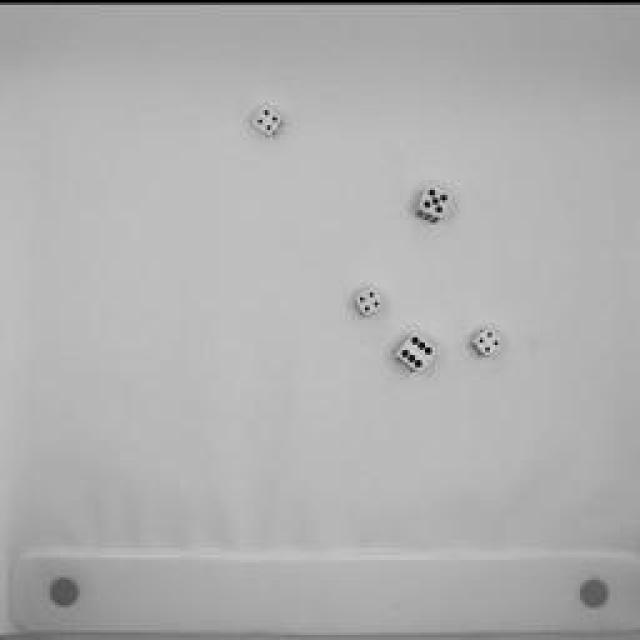dice_4: (250, 99, 290, 139), (349, 280, 386, 318), (468, 324, 502, 358)
dice_6: (390, 325, 440, 377), (410, 179, 455, 226)
